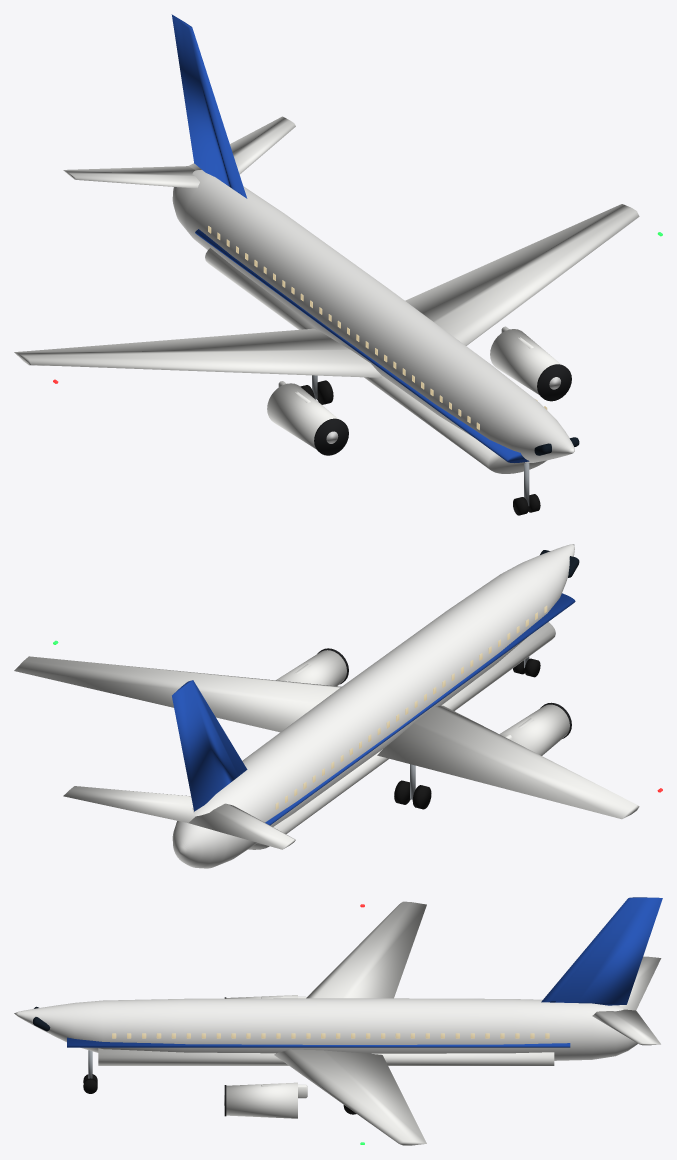
The model's file is airliner.glb.
The picture shows the model from 3 angles, top to bottom: view 1: azimuth 30°, elevation 25°; view 2: azimuth 150°, elevation 25°; view 3: azimuth 270°, elevation 25°; orthographic projection. The views are drawn at different scales.
Parts seen in each view (by area): view 1: Fuselage, Wing, Fin, Belly, HStab, Nacelle1, Nacelle-1, Cheatline, Intake1, Intake-1; view 2: Fuselage, Wing, Fin, HStab, Belly, Nacelle-1, Cheatline, Nacelle1; view 3: Fuselage, Wing, Fin, Belly, Nacelle1, Cheatline, HStab.
Boxes of the visible parts, left/top/right/bottom form: Fuselage: left=172, top=170, right=574, bottom=462; Wing: left=14, top=204, right=639, bottom=377; Fin: left=171, top=14, right=247, bottom=198; Belly: left=205, top=248, right=546, bottom=473; HStab: left=63, top=116, right=295, bottom=188; Nacelle1: left=490, top=329, right=560, bottom=394; Nacelle-1: left=267, top=383, right=337, bottom=449; Cheatline: left=195, top=229, right=529, bottom=462; Intake1: left=537, top=364, right=571, bottom=401; Intake-1: left=314, top=418, right=348, bottom=455; Fuselage: left=172, top=544, right=574, bottom=868; Wing: left=14, top=656, right=639, bottom=819; Fin: left=172, top=680, right=247, bottom=811; HStab: left=63, top=786, right=295, bottom=849; Belly: left=248, top=622, right=555, bottom=849; Nacelle-1: left=499, top=704, right=569, bottom=755; Cheatline: left=265, top=593, right=575, bottom=825; Nacelle1: left=276, top=650, right=346, bottom=686; Fuselage: left=14, top=998, right=637, bottom=1060; Wing: left=274, top=901, right=426, bottom=1145; Fin: left=541, top=897, right=662, bottom=1005; Belly: left=98, top=1048, right=554, bottom=1065; Nacelle1: left=226, top=1082, right=297, bottom=1118; Cheatline: left=67, top=1037, right=570, bottom=1047; HStab: left=592, top=956, right=661, bottom=1045.
Bounding box in the file's own units: 36 × 13.5 × 41.27.
